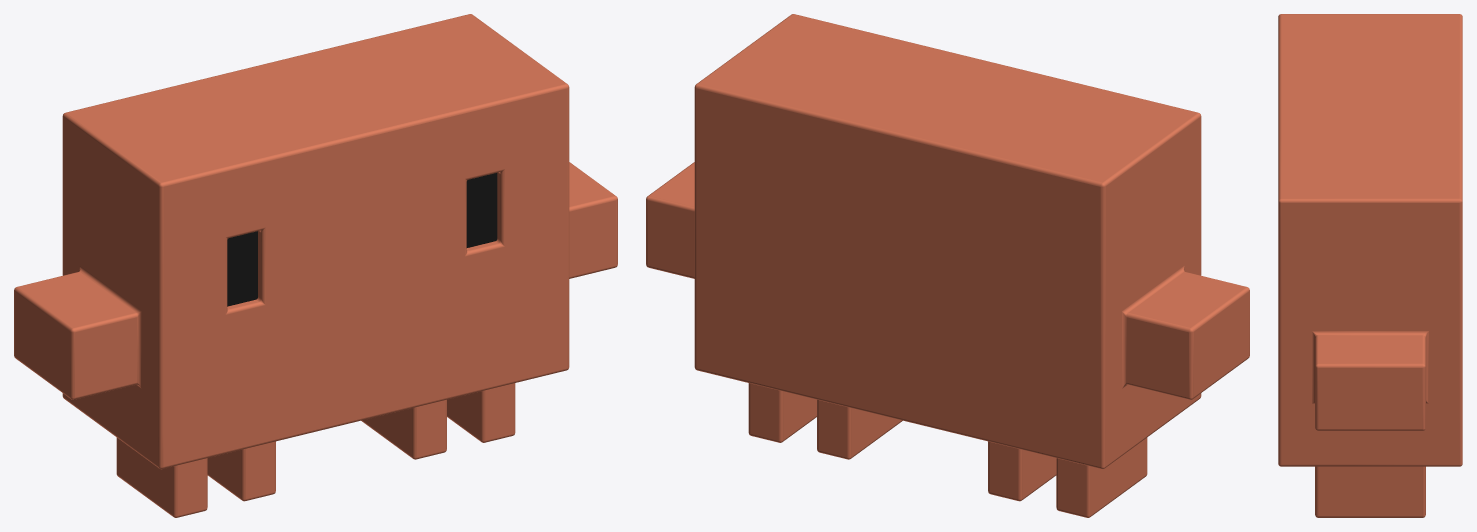
Rendered from Clawd.glb.
3 renders of one model, left to right at view 1: azimuth 30°, elevation 25°; view 2: azimuth 150°, elevation 25°; view 3: azimuth 270°, elevation 25°, orthographic. The views are drawn at different scales.
Visible parts, largest first — view 1: Clawd | Body, arms and four feet, Clawd | Right eye insert, Clawd | Left eye insert; view 2: Clawd | Body, arms and four feet; view 3: Clawd | Body, arms and four feet.
Boxes of the visible parts, x1=… form: Clawd | Body, arms and four feet: x1=14, y1=14, x2=617, y2=517; Clawd | Right eye insert: x1=466, y1=173, x2=497, y2=247; Clawd | Left eye insert: x1=227, y1=231, x2=257, y2=306; Clawd | Body, arms and four feet: x1=646, y1=14, x2=1249, y2=517; Clawd | Body, arms and four feet: x1=1278, y1=14, x2=1462, y2=517.
Bounding box in the file's own units: 6.4 × 4 × 2.
